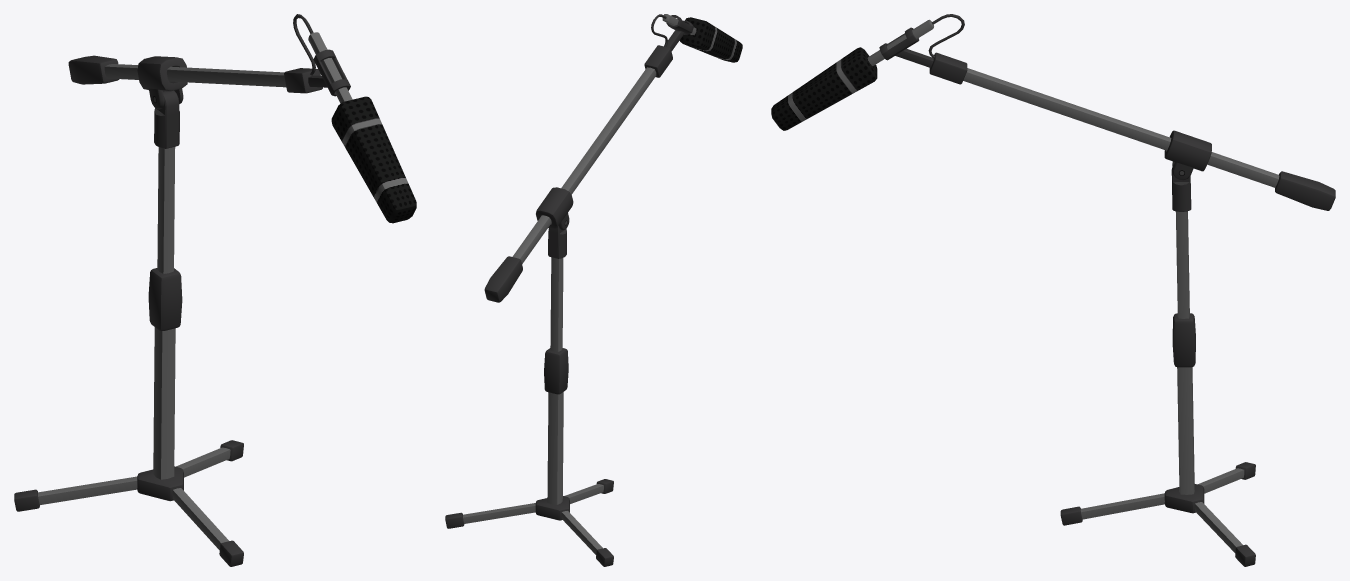
The model's file is boom mic.glb.
The picture shows the model from 3 angles, left to right: view 1: azimuth 30°, elevation 25°; view 2: azimuth 150°, elevation 25°; view 3: azimuth 270°, elevation 25°; orthographic projection. The views are drawn at different scales.
Visible parts, largest first — view 1: BoomMicrophoneStand_LOD0; view 2: BoomMicrophoneStand_LOD0; view 3: BoomMicrophoneStand_LOD0.
Part boxes in pixels (left/top/right/bottom): BoomMicrophoneStand_LOD0: left=14, top=14, right=416, bottom=566; BoomMicrophoneStand_LOD0: left=445, top=14, right=742, bottom=566; BoomMicrophoneStand_LOD0: left=771, top=14, right=1335, bottom=566.
Size of the model in its own units: 0.7956 by 1.99 by 2.
Materials: 1 (1 with a texture image).
